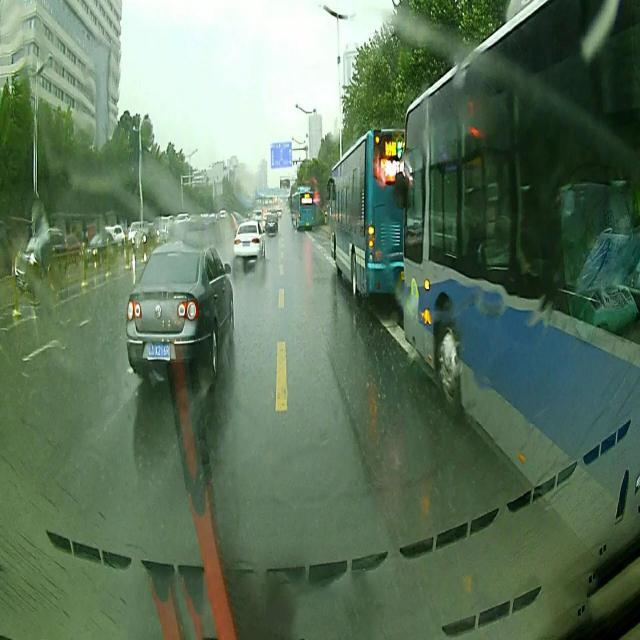car: (125, 242, 234, 382), (13, 228, 68, 280), (232, 221, 266, 261), (85, 232, 118, 268), (64, 234, 83, 268), (264, 212, 278, 232)
